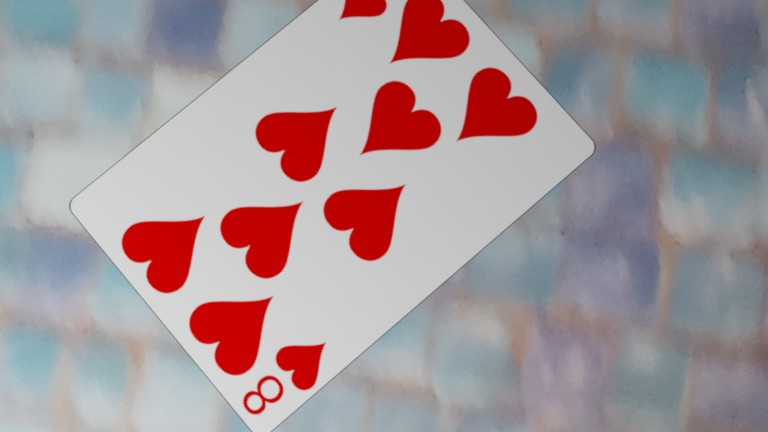8_of_hearts: (227, 319, 345, 432), (323, 0, 433, 39)
